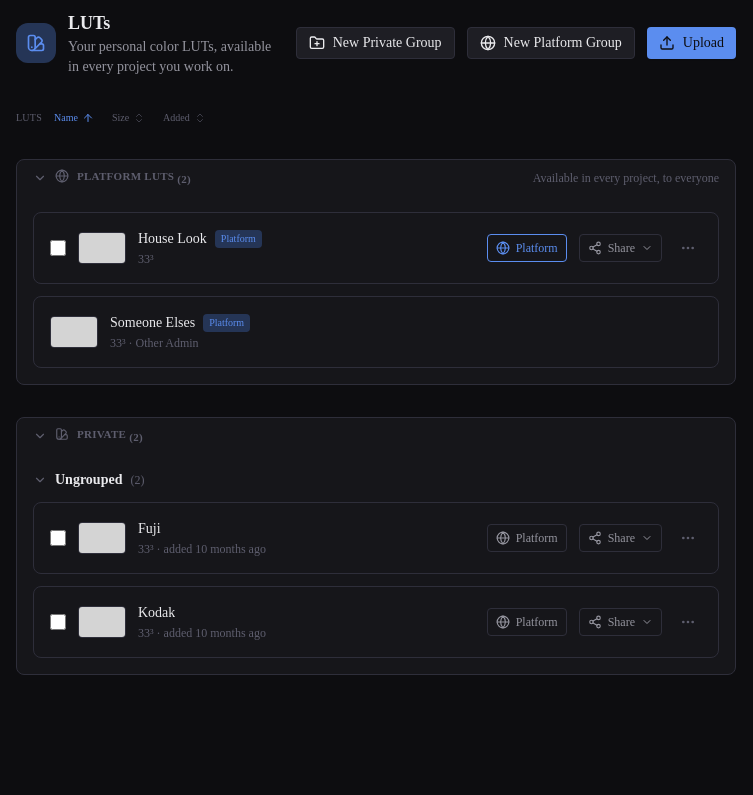
the toolbar › clears the selection without deleting anything
Click the checkbox named "Select Kodak".
click(58, 622)  # box [50,614,66,630]
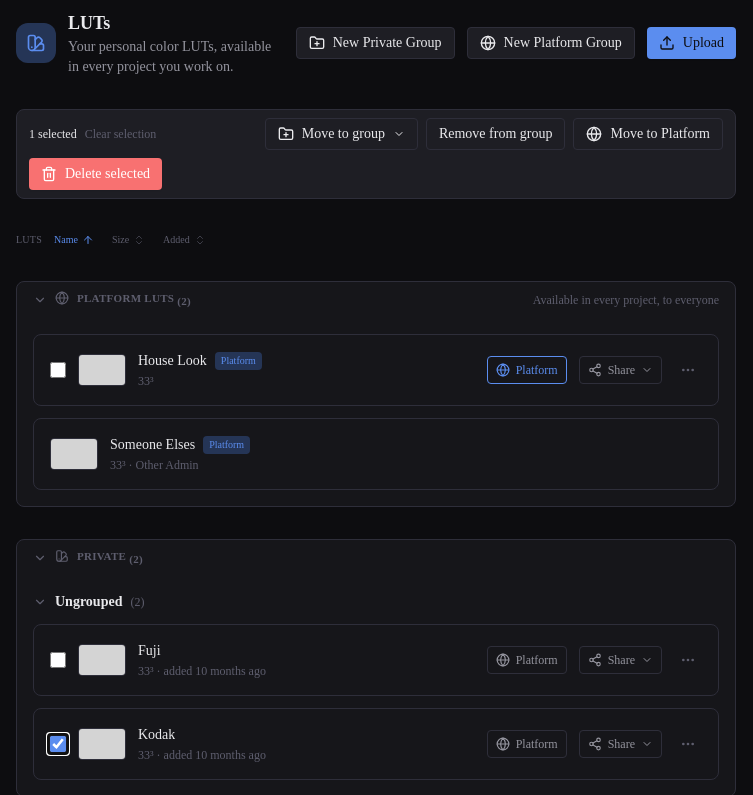
Click the button "Clear selection".
click(120, 134)  # box [85,126,156,142]
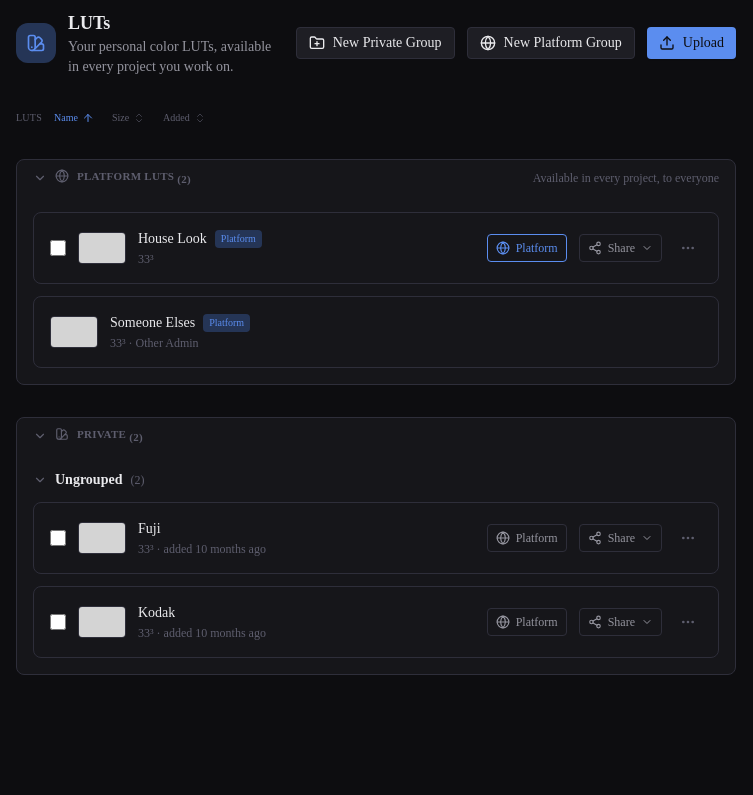
Result: the text "1 selected" is gone
